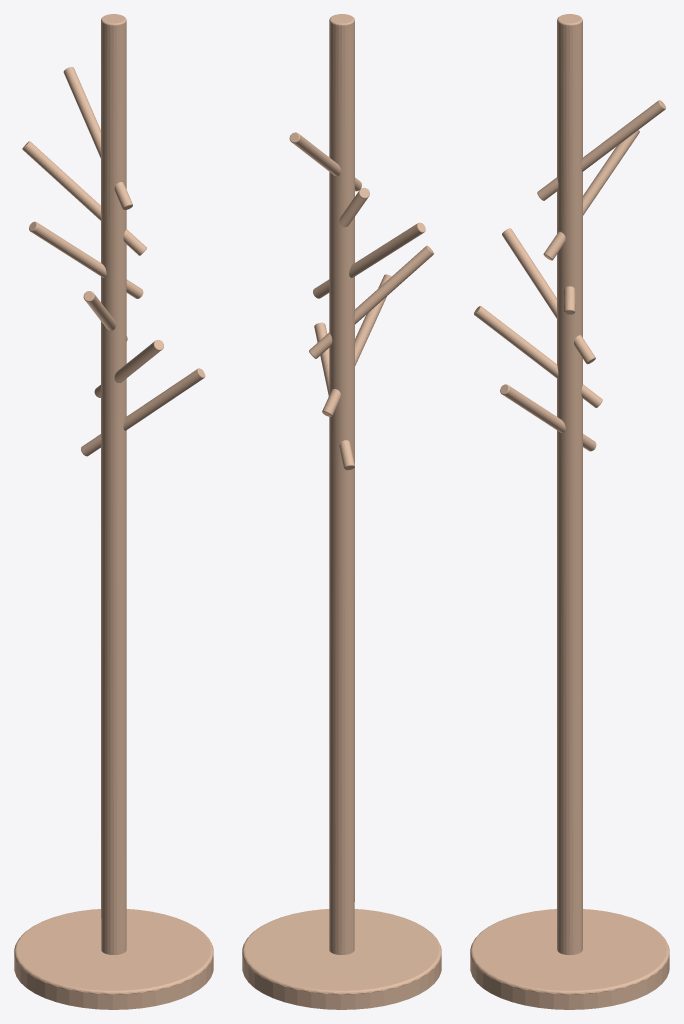
The model's file is cabideiro-ciliegiolo.glb.
The picture shows the model from 3 angles, left to right: view 1: azimuth 30°, elevation 25°; view 2: azimuth 150°, elevation 25°; view 3: azimuth 270°, elevation 25°; orthographic projection.
Size of the model in its own units: 0.3499 by 1.84 by 0.3496.
